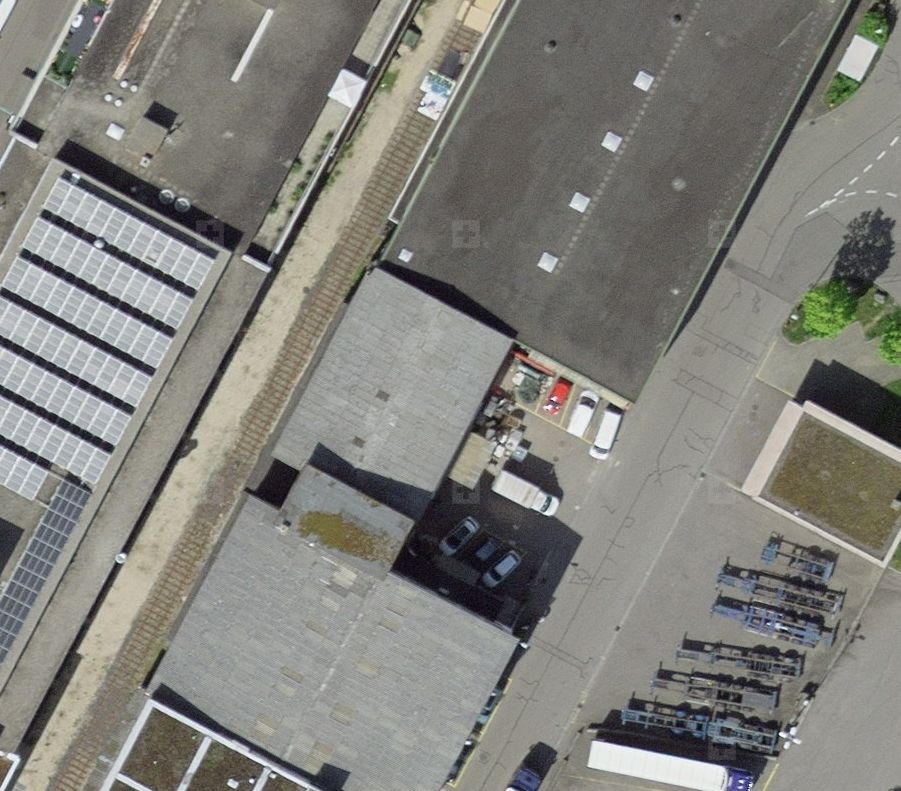solar: (1, 170, 217, 668)
